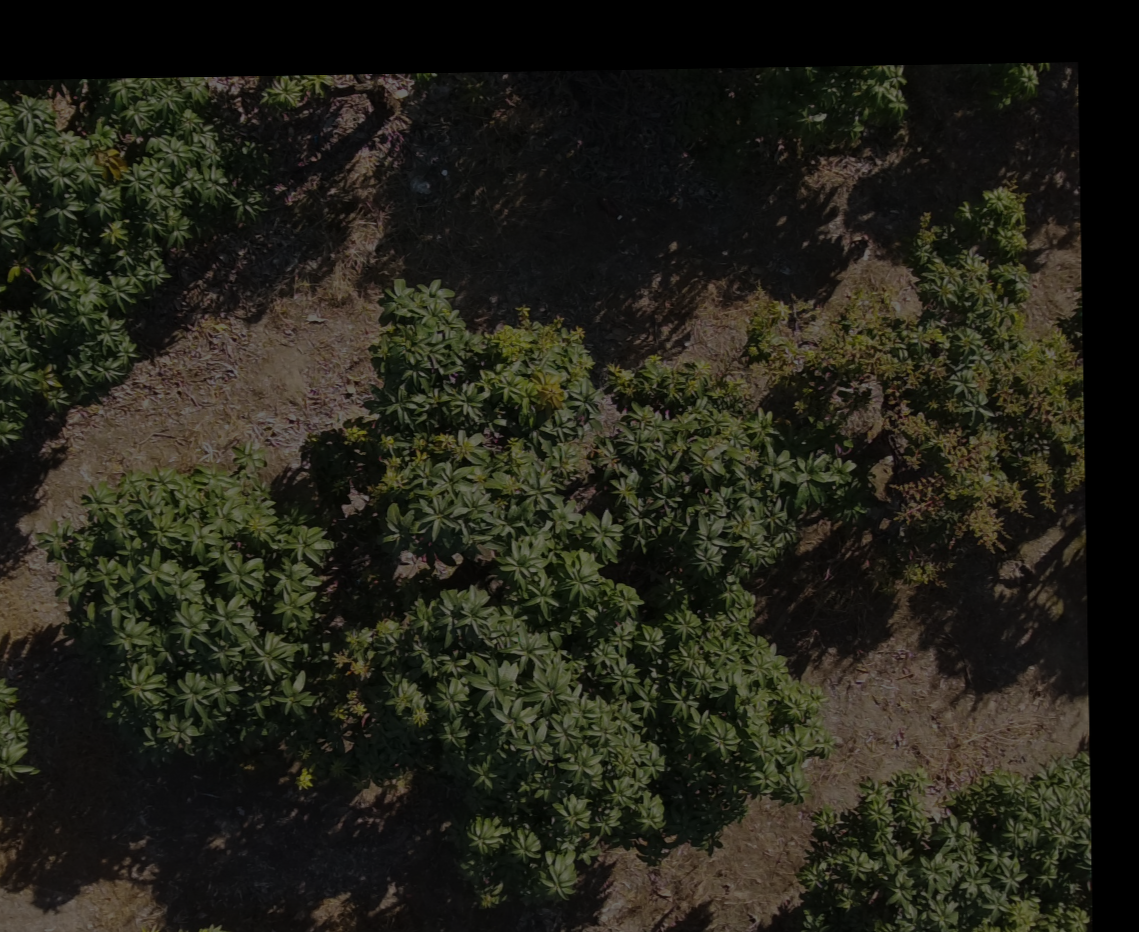flowers: (744, 179, 1083, 545), (489, 313, 595, 429), (609, 357, 748, 416), (373, 434, 478, 495)
